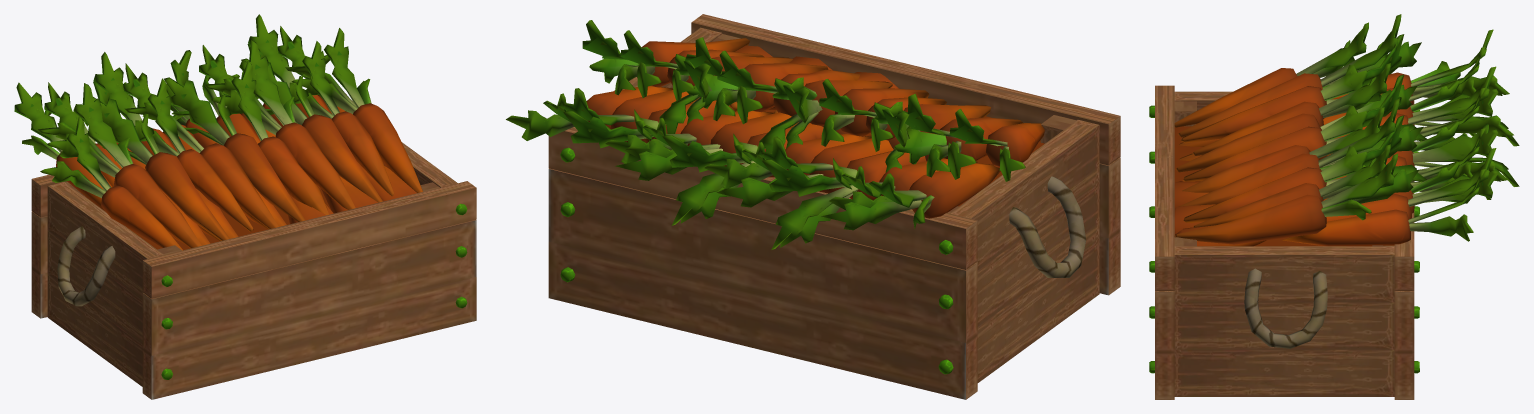
Rendered from farmcrate_carrot.glb.
3 views of the same model, side by side, from view 1: azimuth 30°, elevation 25°; view 2: azimuth 150°, elevation 25°; view 3: azimuth 270°, elevation 25° (orthographic). The views are drawn at different scales.
Parts seen in each view (by area): view 1: FarmCrate_Carrot; view 2: FarmCrate_Carrot; view 3: FarmCrate_Carrot.
Part boxes in pixels (x1,y1,x2,y2): FarmCrate_Carrot: (14,14,476,399); FarmCrate_Carrot: (506,14,1120,399); FarmCrate_Carrot: (1149,14,1519,399).
Bounding box in the file's own units: 0.7138 × 0.4113 × 0.567.
3 materials, 3 textured.
